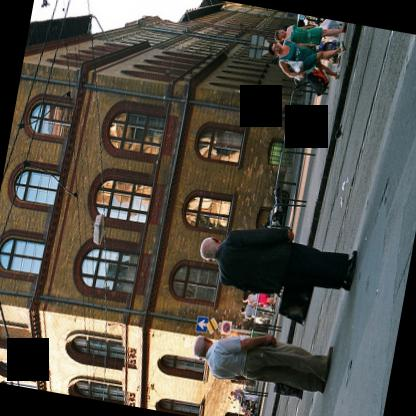backpack: (305, 67, 329, 96)
handbag: (276, 283, 314, 325), (272, 381, 303, 401), (279, 58, 304, 72)
